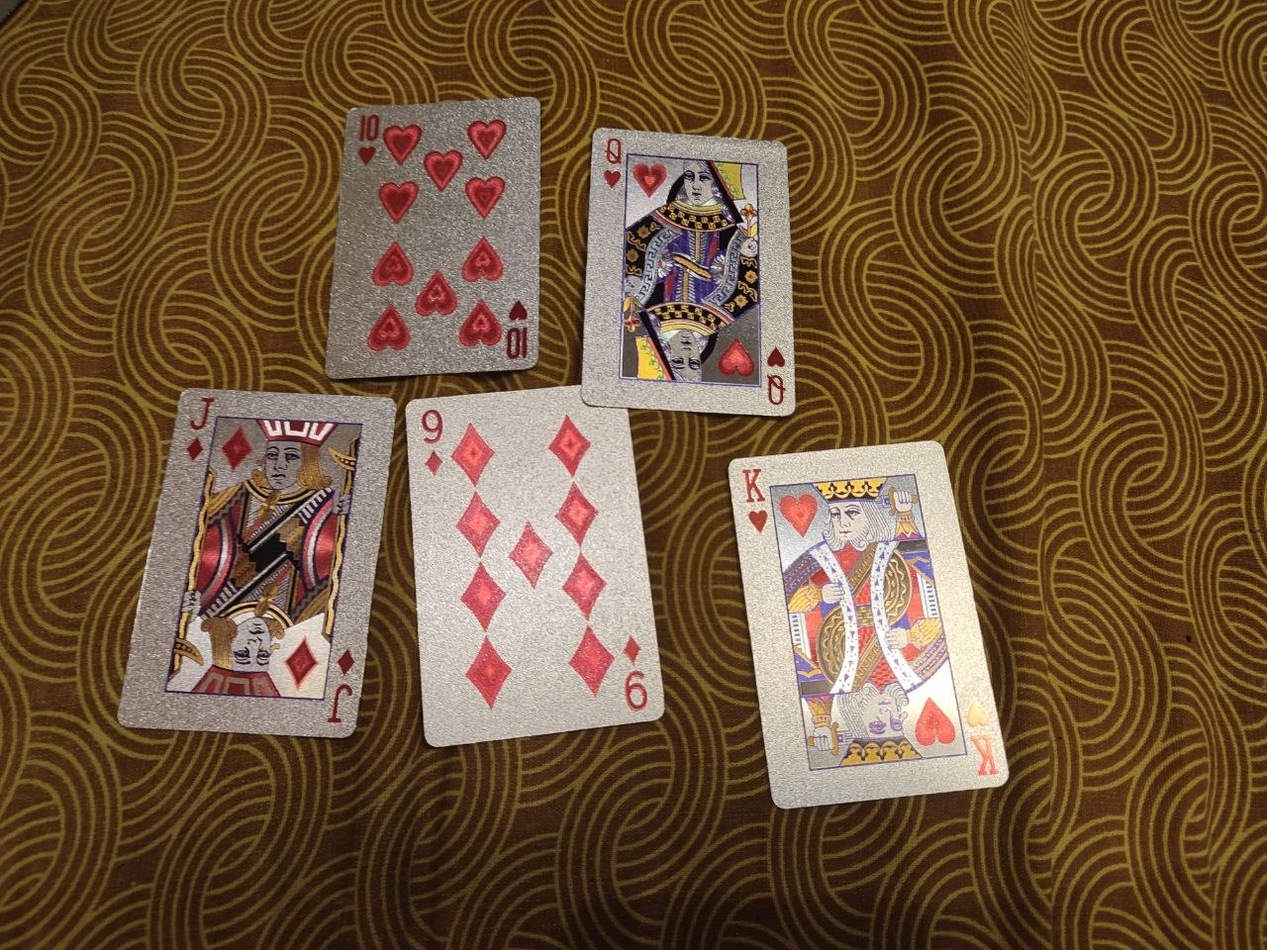10H: (325, 94, 542, 379)
9D: (402, 382, 667, 748)
JD: (115, 388, 398, 741)
KH: (725, 439, 1012, 809)
QH: (580, 125, 795, 419)
